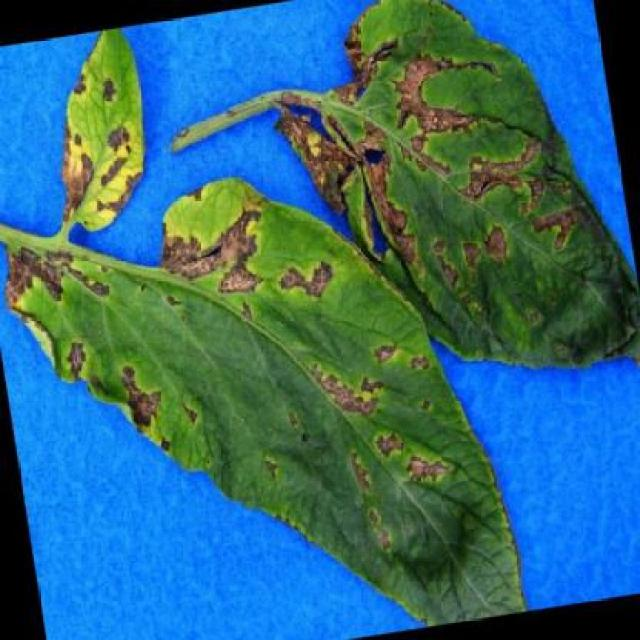Tomato leaf bacterial spot: (0, 167, 474, 640), (294, 0, 640, 389), (21, 26, 174, 239)
